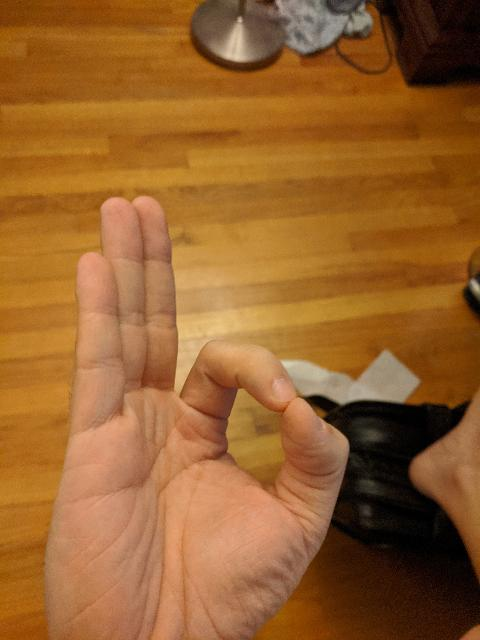F: (36, 186, 356, 640)
